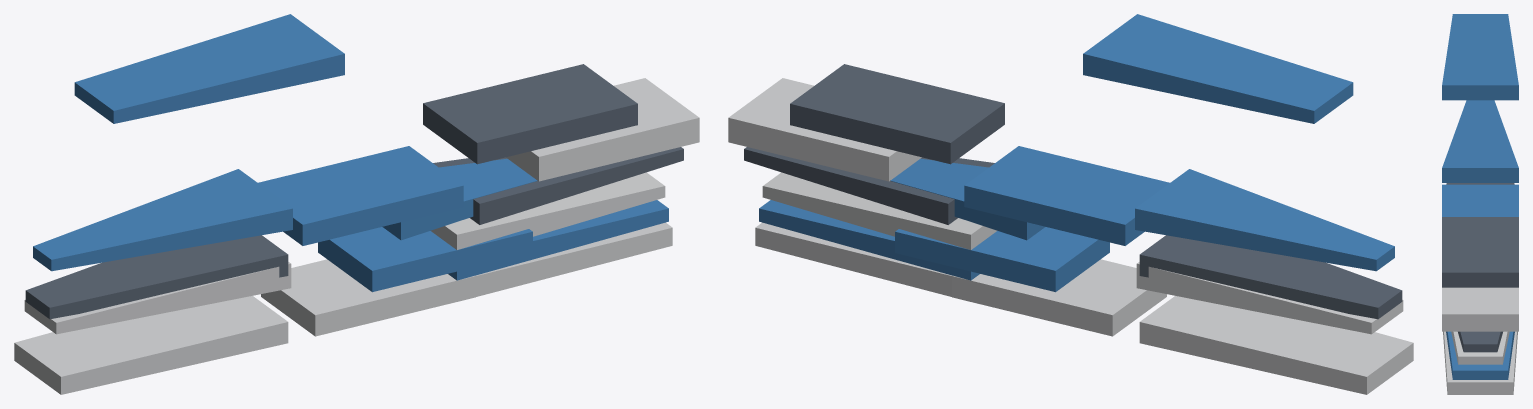
3 renders of one model, left to right at view 1: azimuth 30°, elevation 25°; view 2: azimuth 150°, elevation 25°; view 3: azimuth 270°, elevation 25°, orthographic. The views are drawn at different scales.
Visible parts, largest first — view 1: part13, part14, part6, part10, part5, part11, part9, part8, part7, part2, part12, part1 (+3 smaller); view 2: part13, part14, part6, part10, part5, part11, part9, part8, part7, part2, part12, part1 (+3 smaller); view 3: part13, part6, part10, part7, part5, part4, part3, part2, part1, part11.
Boxes of the visible parts, left/top/right/bottom form: part13: left=74, top=14, right=344, bottom=123; part14: left=14, top=296, right=288, bottom=394; part6: left=423, top=64, right=637, bottom=164; part10: left=33, top=169, right=292, bottom=271; part5: left=258, top=146, right=463, bottom=245; part11: left=25, top=235, right=288, bottom=319; part9: left=261, top=259, right=475, bottom=336; part8: left=318, top=227, right=532, bottom=292; part7: left=506, top=78, right=699, bottom=181; part2: left=430, top=172, right=665, bottom=249; part12: left=24, top=262, right=291, bottom=334; part1: left=433, top=147, right=683, bottom=224; part13: left=1083, top=14, right=1353, bottom=123; part14: left=1139, top=296, right=1413, bottom=394; part6: left=790, top=64, right=1004, bottom=164; part10: left=1135, top=169, right=1394, bottom=271; part5: left=964, top=146, right=1169, bottom=245; part11: left=1139, top=235, right=1402, bottom=319; part9: left=952, top=259, right=1166, bottom=336; part8: left=895, top=227, right=1109, bottom=292; part7: left=728, top=78, right=921, bottom=181; part2: left=762, top=172, right=997, bottom=249; part12: left=1136, top=262, right=1403, bottom=334; part1: left=744, top=147, right=994, bottom=224; part13: left=1442, top=14, right=1518, bottom=100; part6: left=1442, top=217, right=1518, bottom=287; part10: left=1442, top=100, right=1518, bottom=182; part7: left=1442, top=287, right=1518, bottom=331; part5: left=1442, top=184, right=1518, bottom=216; part4: left=1443, top=331, right=1517, bottom=394; part3: left=1446, top=331, right=1514, bottom=379; part2: left=1451, top=331, right=1509, bottom=364; part1: left=1458, top=331, right=1502, bottom=352; part11: left=1446, top=183, right=1514, bottom=184.
Bounding box in the file's own units: 8.09 × 3.36 × 1.2.
